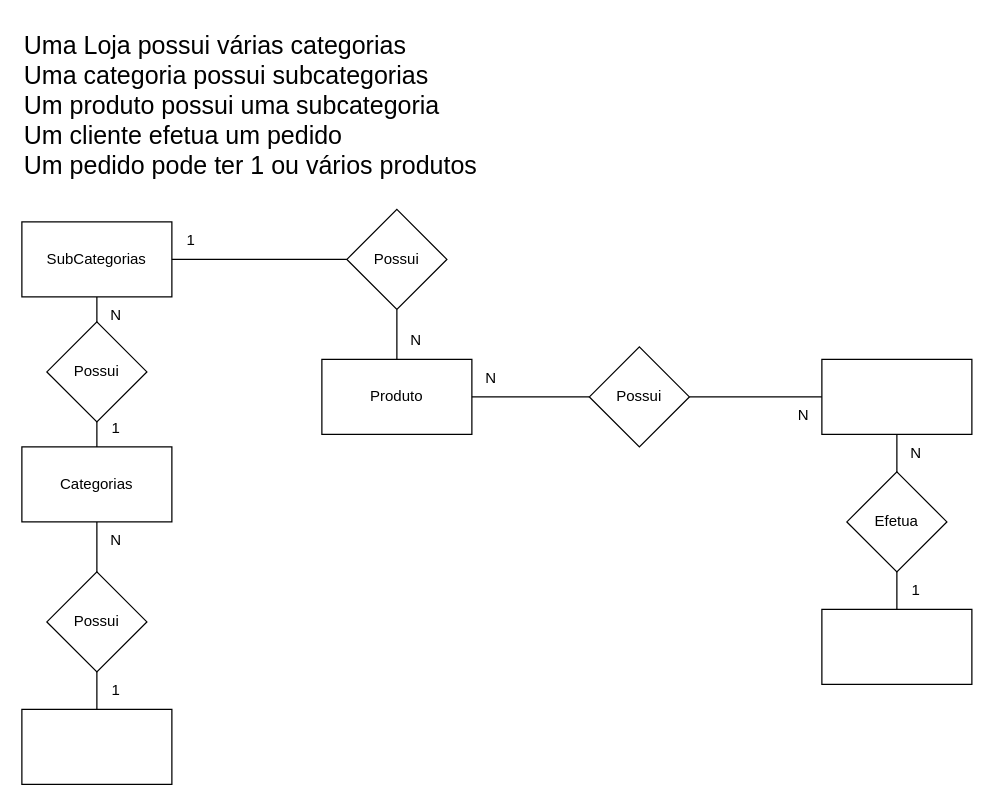
Image size: 994x806. Some labels were removed from this diagram. The shapes that lost their labels are listed below. From the top down, each one's box as (x1, y1, x2, y2) in pixels, then its label:
(821, 358, 972, 434): Pedido
(821, 608, 972, 684): Cliente
(21, 708, 172, 784): Loja
